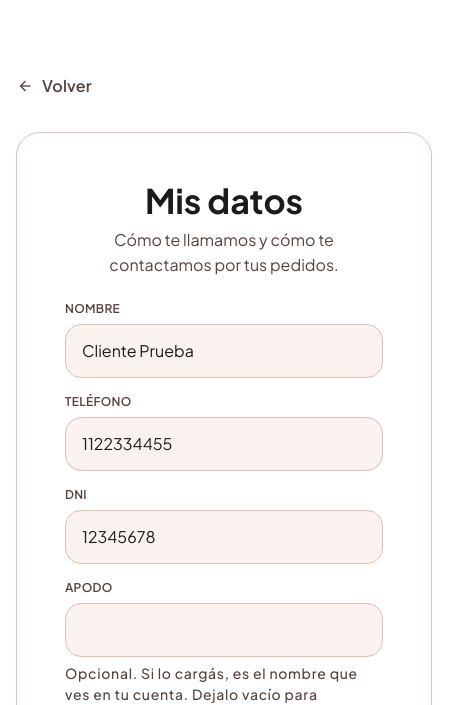
Scenario: Datos, montada bajo el guard real › tras guardar, la confirmación SE VE (la pantalla no se desmonta)
Replace the text in the field labelled "Nombre" with "Otro Nombre" at (224, 351), box [65, 324, 383, 378]
(page scrolled)
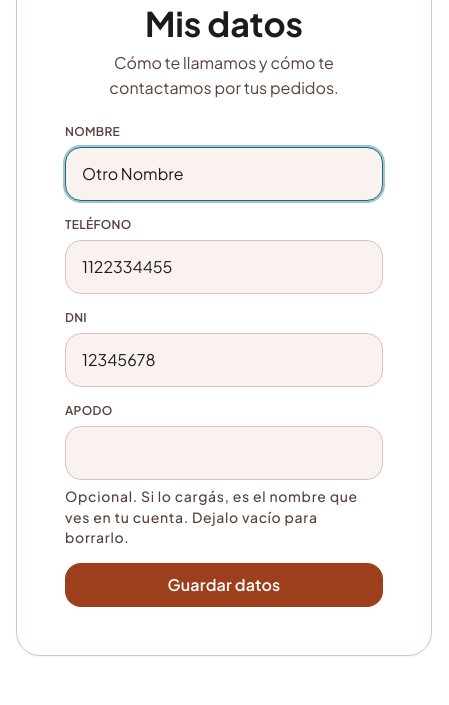
Click the button "Guardar datos".
click(224, 585)  # box [65, 563, 383, 607]
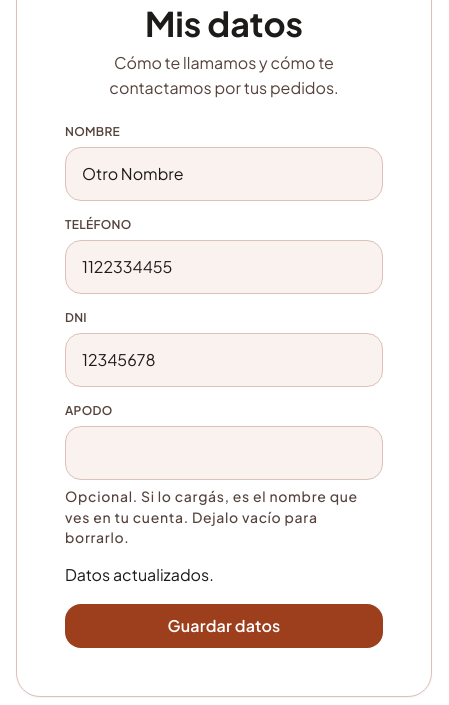
Result: the text "Datos actualizados." is shown at [65, 564, 214, 585]
